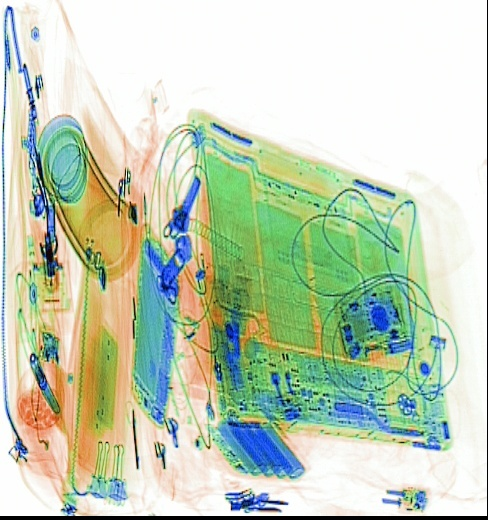powerbank: (205, 419, 307, 483)
